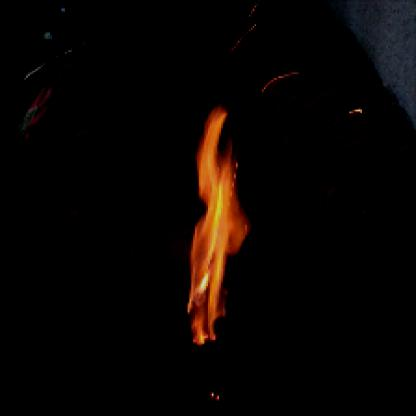Fire: (176, 93, 256, 349)
